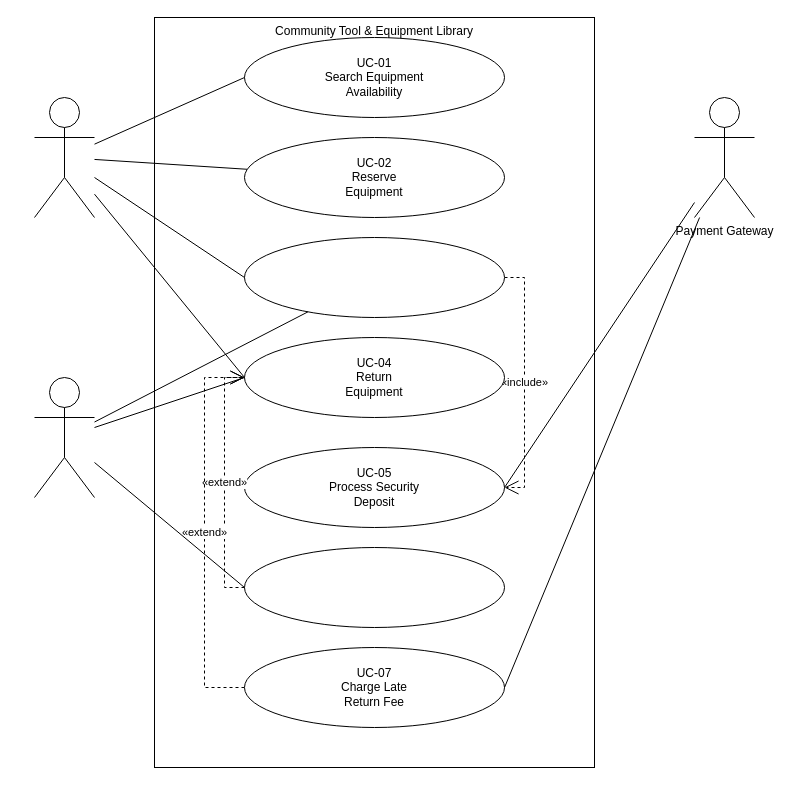
The diagram is 791 pixels wide and 785 high, and some of its shapes have lost their labels. The shapes that lost their labels are listed below. From the top down, each one's box as (x1, y1, x2, y2) in pixels, then its label:
(34, 96, 94, 218): Community Member
(244, 236, 504, 318): UC-03 Borrow Equipment
(34, 376, 94, 498): Library Custodian
(244, 546, 504, 628): UC-06 Log Damage Assessment
